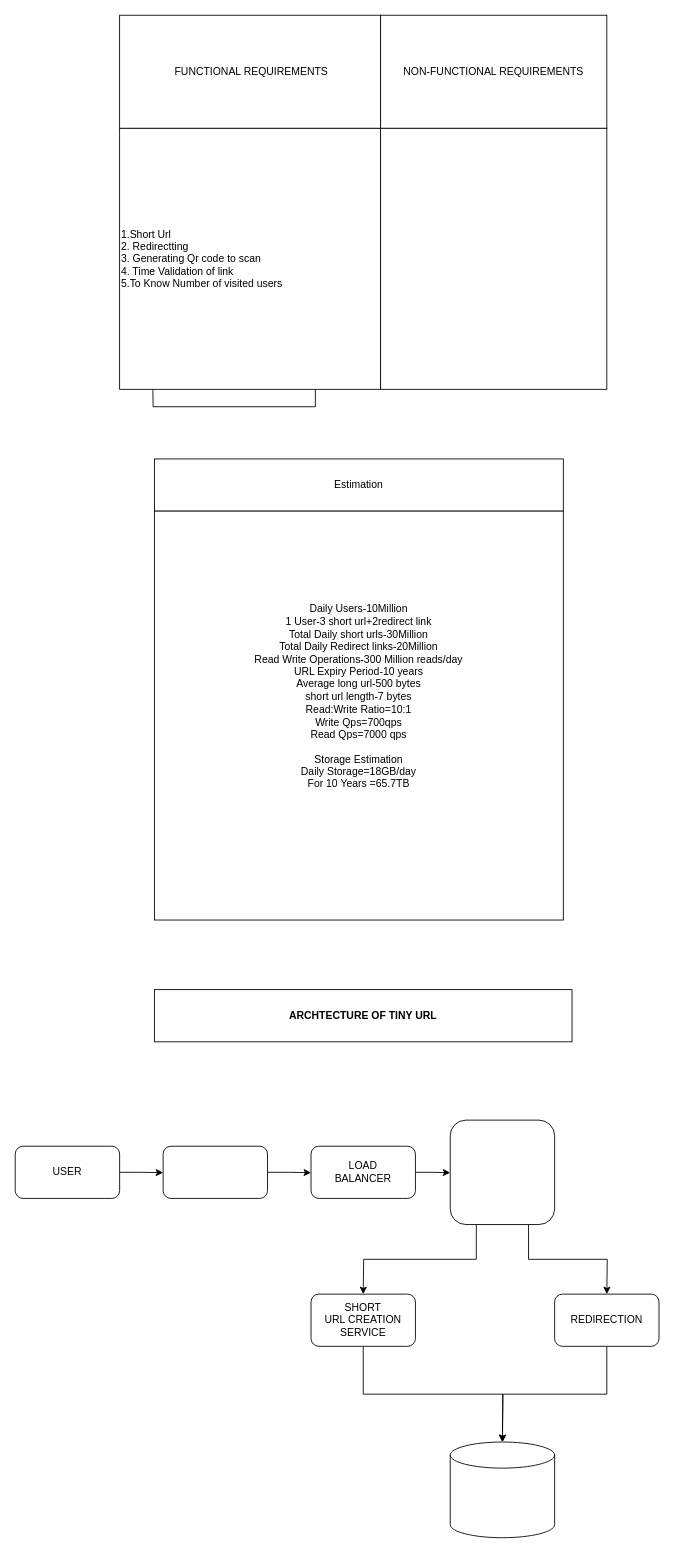
The diagram is 674 pixels wide and 1553 high, and some of its shapes have lost their labels. Each missing label, with the centre of its shape:
1.Low Latency 2.Security 3.Data Consistency 4.Data Readability 5.Scalability: point (493, 258)
API GATEWAY FOR REDIRECT: point (215, 1171)
DATA BASE: point (502, 1489)
SERVER: point (502, 1172)
